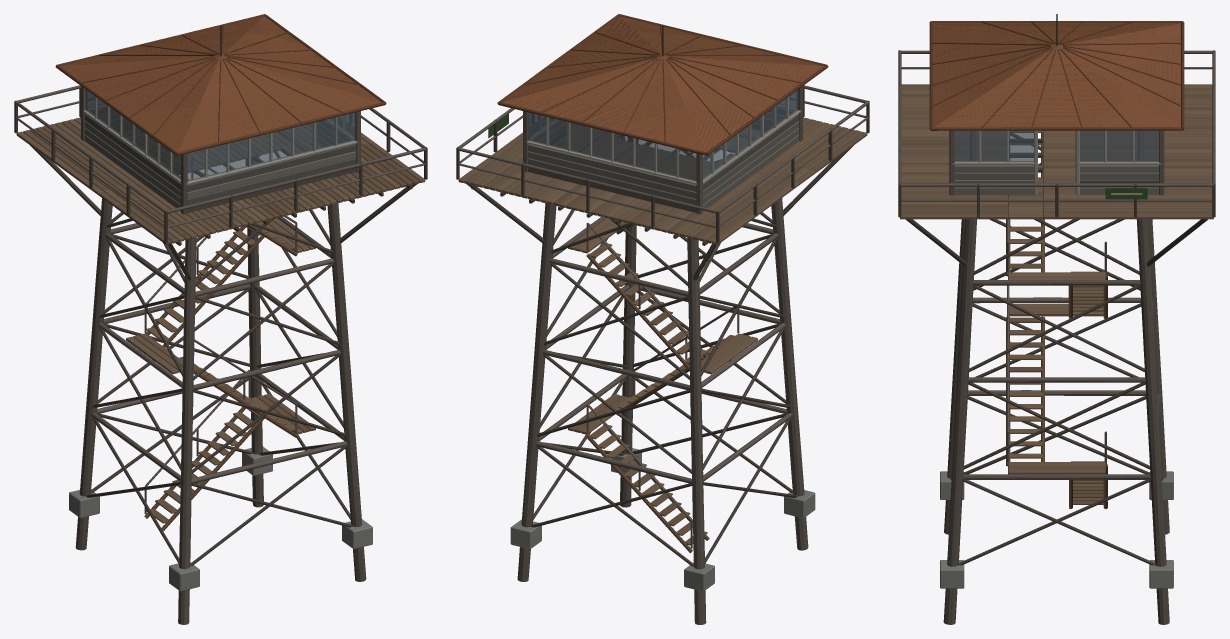
File: lookout-old.glb
3 views of the same model, side by side, from view 1: azimuth 30°, elevation 25°; view 2: azimuth 150°, elevation 25°; view 3: azimuth 270°, elevation 25° (orthographic). The views are drawn at different scales.
Parts seen in each view (by area): view 1: lookout-frame, lookout-roof, lookout-floor-cab, lookout-wall-south, lookout-rail, lookout-window-south, lookout-wall-west, lookout-stair-1, lookout-stair-3, lookout-window-west, lookout-stair-2, lookout-wall-posts (+4 smaller); view 2: lookout-frame, lookout-roof, lookout-floor-cab, lookout-wall-north, lookout-rail, lookout-window-north, lookout-wall-west, lookout-stair-1, lookout-stair-3, lookout-window-west, lookout-stair-2, lookout-wall-posts (+4 smaller); view 3: lookout-frame, lookout-roof, lookout-floor-cab, lookout-wall-east, lookout-window-east, lookout-rail, lookout-stair-2, lookout-stair-3, lookout-stair-4, lookout-floor-landing-1, lookout-stair-1, lookout-floor-landing-2 (+2 smaller).
Part boxes in pixels (bbox=[...]): lookout-frame: bbox=[30, 130, 416, 624]; lookout-roof: bbox=[55, 14, 386, 155]; lookout-floor-cab: bbox=[16, 117, 425, 244]; lookout-wall-south: bbox=[185, 117, 357, 212]; lookout-rail: bbox=[14, 85, 427, 242]; lookout-window-south: bbox=[187, 112, 355, 181]; lookout-wall-west: bbox=[83, 96, 182, 211]; lookout-stair-1: bbox=[144, 370, 264, 530]; lookout-stair-3: bbox=[144, 225, 264, 347]; lookout-window-west: bbox=[85, 89, 180, 179]; lookout-stair-2: bbox=[179, 339, 297, 437]; lookout-wall-posts: bbox=[81, 86, 360, 214]; lookout-frame: bbox=[466, 130, 853, 624]; lookout-roof: bbox=[497, 14, 828, 155]; lookout-floor-cab: bbox=[458, 117, 867, 244]; lookout-wall-north: bbox=[526, 117, 698, 212]; lookout-rail: bbox=[456, 85, 869, 242]; lookout-window-north: bbox=[528, 112, 696, 181]; lookout-wall-west: bbox=[703, 96, 801, 211]; lookout-stair-1: bbox=[586, 404, 709, 553]; lookout-stair-3: bbox=[586, 222, 707, 371]; lookout-window-west: bbox=[703, 89, 798, 179]; lookout-stair-2: bbox=[616, 306, 739, 415]; lookout-wall-posts: bbox=[523, 86, 802, 214]; lookout-frame: bbox=[905, 131, 1207, 624]; lookout-roof: bbox=[929, 14, 1184, 130]; lookout-floor-cab: bbox=[900, 84, 1213, 219]; lookout-wall-east: bbox=[952, 130, 1161, 195]; lookout-window-east: bbox=[955, 130, 1158, 161]; lookout-rail: bbox=[898, 50, 1215, 217]; lookout-stair-2: bbox=[1006, 285, 1044, 466]; lookout-stair-3: bbox=[1068, 241, 1107, 319]; lookout-stair-4: bbox=[1006, 130, 1044, 276]; lookout-floor-landing-1: bbox=[1008, 462, 1105, 474]; lookout-stair-1: bbox=[1069, 431, 1107, 508]; lookout-floor-landing-2: bbox=[1009, 303, 1103, 316].
Bounding box in the file's own units: 9.11 × 17.81 × 9.1.
